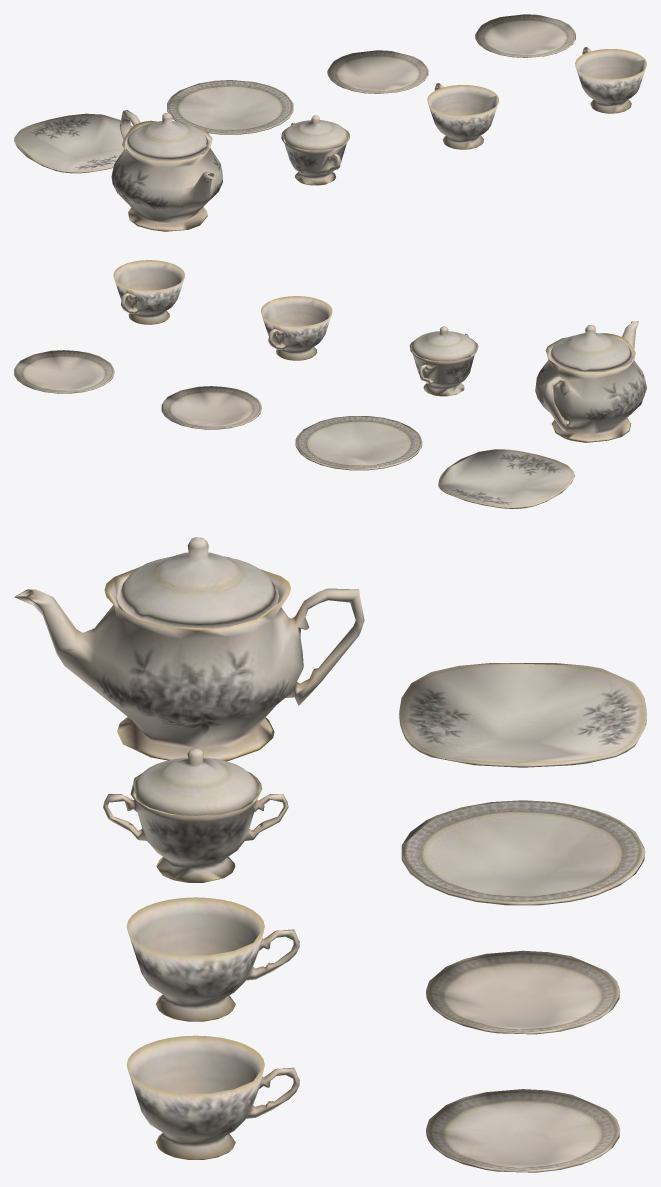
File: tea_set_01.glb
3 renders of one model, top to bottom at view 1: azimuth 30°, elevation 25°; view 2: azimuth 150°, elevation 25°; view 3: azimuth 270°, elevation 25°, orthographic. The views are drawn at different scales.
Visible parts, largest first — view 1: tea_set_01_teapot_01, tea_set_01_plate_large_circular_03, tea_set_01_plate_large_square_01, tea_set_01_cup_small_02, tea_set_01_cup_small_01, tea_set_01_saucer_circular_04, tea_set_01_saucer_circular_03, tea_set_01_teapot_01_lid, tea_set_01_sugar_cup_01, tea_set_01_sugar_cup_01_lid; view 2: tea_set_01_teapot_01, tea_set_01_plate_large_square_01, tea_set_01_plate_large_circular_03, tea_set_01_cup_small_02, tea_set_01_cup_small_01, tea_set_01_saucer_circular_03, tea_set_01_saucer_circular_04, tea_set_01_teapot_01_lid, tea_set_01_sugar_cup_01, tea_set_01_sugar_cup_01_lid; view 3: tea_set_01_teapot_01, tea_set_01_plate_large_square_01, tea_set_01_plate_large_circular_03, tea_set_01_cup_small_01, tea_set_01_cup_small_02, tea_set_01_saucer_circular_04, tea_set_01_saucer_circular_03, tea_set_01_teapot_01_lid, tea_set_01_sugar_cup_01, tea_set_01_sugar_cup_01_lid.
Part boxes in pixels (left/top/right/bottom): tea_set_01_teapot_01: left=111, top=110, right=222, bottom=231; tea_set_01_plate_large_circular_03: left=167, top=80, right=293, bottom=134; tea_set_01_plate_large_square_01: left=14, top=113, right=132, bottom=173; tea_set_01_cup_small_02: left=575, top=47, right=646, bottom=113; tea_set_01_cup_small_01: left=427, top=83, right=499, bottom=149; tea_set_01_saucer_circular_04: left=327, top=50, right=428, bottom=93; tea_set_01_saucer_circular_03: left=475, top=14, right=575, bottom=57; tea_set_01_teapot_01_lid: left=125, top=113, right=209, bottom=160; tea_set_01_sugar_cup_01: left=281, top=122, right=349, bottom=185; tea_set_01_sugar_cup_01_lid: left=282, top=115, right=348, bottom=150; tea_set_01_teapot_01: left=535, top=321, right=646, bottom=442; tea_set_01_plate_large_square_01: left=438, top=449, right=574, bottom=508; tea_set_01_plate_large_circular_03: left=295, top=416, right=422, bottom=470; tea_set_01_cup_small_02: left=113, top=260, right=184, bottom=324; tea_set_01_cup_small_01: left=260, top=296, right=332, bottom=360; tea_set_01_saucer_circular_03: left=14, top=350, right=114, bottom=393; tea_set_01_saucer_circular_04: left=161, top=386, right=261, bottom=429; tea_set_01_teapot_01_lid: left=548, top=325, right=632, bottom=371; tea_set_01_sugar_cup_01: left=409, top=333, right=478, bottom=396; tea_set_01_sugar_cup_01_lid: left=410, top=326, right=477, bottom=361; tea_set_01_teapot_01: left=14, top=556, right=364, bottom=761; tea_set_01_plate_large_square_01: left=399, top=663, right=646, bottom=767; tea_set_01_plate_large_circular_03: left=401, top=800, right=645, bottom=905; tea_set_01_cup_small_01: left=126, top=897, right=299, bottom=1021; tea_set_01_cup_small_02: left=126, top=1035, right=299, bottom=1159; tea_set_01_saucer_circular_04: left=426, top=950, right=620, bottom=1034; tea_set_01_saucer_circular_03: left=426, top=1089, right=620, bottom=1172; tea_set_01_teapot_01_lid: left=117, top=537, right=279, bottom=628; tea_set_01_sugar_cup_01: left=103, top=771, right=288, bottom=882; tea_set_01_sugar_cup_01_lid: left=133, top=748, right=258, bottom=815.
Bounding box in the file's own units: 0.9179 × 0.165 × 0.4836.
Materials: 1 (1 with a texture image).
